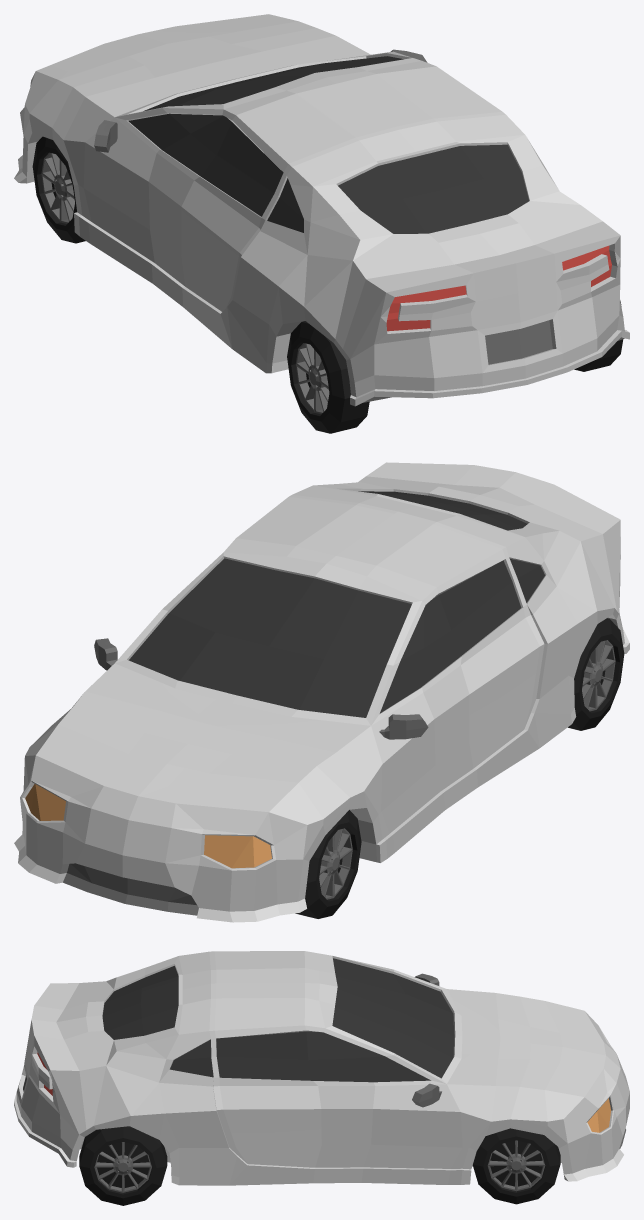
The model's file is wings_of_freedom-car-2721.glb.
3 views of the same model, one above another, from view 1: azimuth 30°, elevation 25°; view 2: azimuth 150°, elevation 25°; view 3: azimuth 270°, elevation 25° (orthographic). The views are drawn at different scales.
Visible parts, largest first — view 1: Cube006, Cube006_1, Cylinder018, Cube006_2, Cube006_4, Cylinder002, Cylinder002_1, Cylinder018_1; view 2: Cube006, Cube006_1, Cube006_2, Cube006_3, Cylinder002, Cylinder018, Cylinder018_1, Cylinder002_1; view 3: Cube006, Cube006_1, Cylinder017, Cylinder002, Cylinder017_1, Cylinder002_1, Cube006_2, Cube006_3.
Boxes of the visible parts, x1,y1,x2,y2 form: Cube006: (14,14,629,406); Cube006_1: (128,56,528,233); Cylinder018: (287,321,369,433); Cube006_2: (94,49,552,364); Cube006_4: (386,245,611,331); Cylinder002: (32,136,85,243); Cylinder002_1: (41,152,74,223); Cylinder018_1: (295,343,329,414); Cube006: (14,462,629,922); Cube006_1: (128,491,545,717); Cube006_2: (63,638,428,915); Cube006_3: (25,784,271,868); Cylinder002: (295,810,361,918); Cylinder018: (568,618,624,730); Cylinder018_1: (582,640,615,711); Cylinder002_1: (319,828,352,899); Cube006: (14,951,629,1185); Cube006_1: (102,958,454,1082); Cylinder017: (79,1126,167,1205); Cylinder002: (472,1128,560,1204); Cylinder017_1: (94,1142,151,1192); Cylinder002_1: (487,1140,545,1191); Cube006_2: (23,973,625,1148); Cube006_3: (587,1098,611,1132).
Size of the model in its own units: 1.87 by 1.2 by 3.93.
